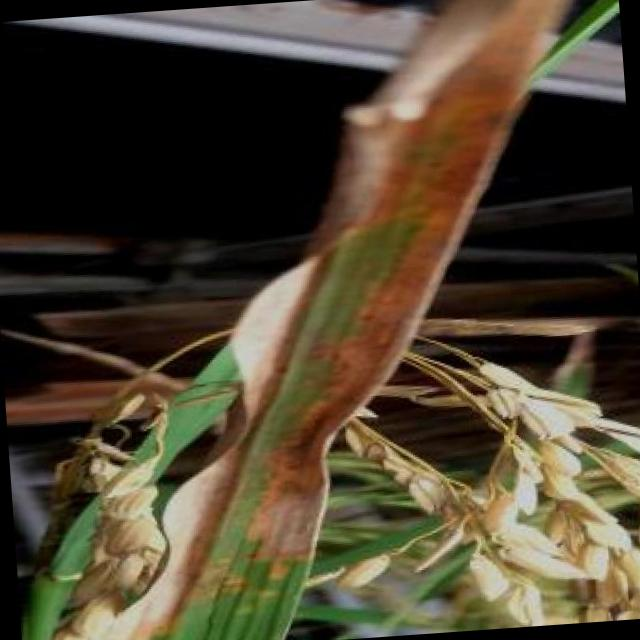Rice_Bacterial_Blight: (183, 213, 404, 640)
